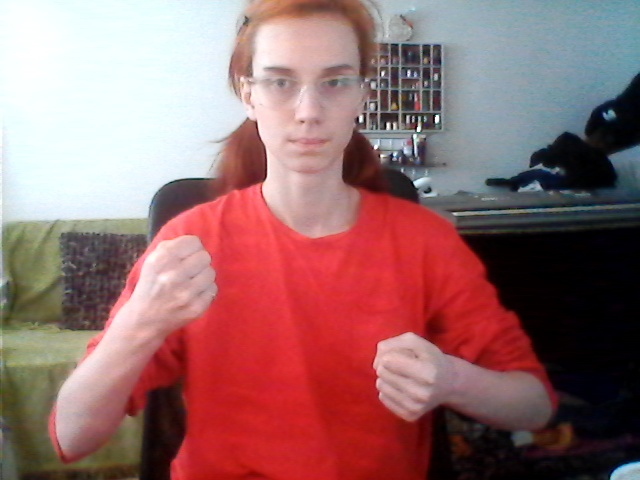auto: (146, 229, 467, 428)
